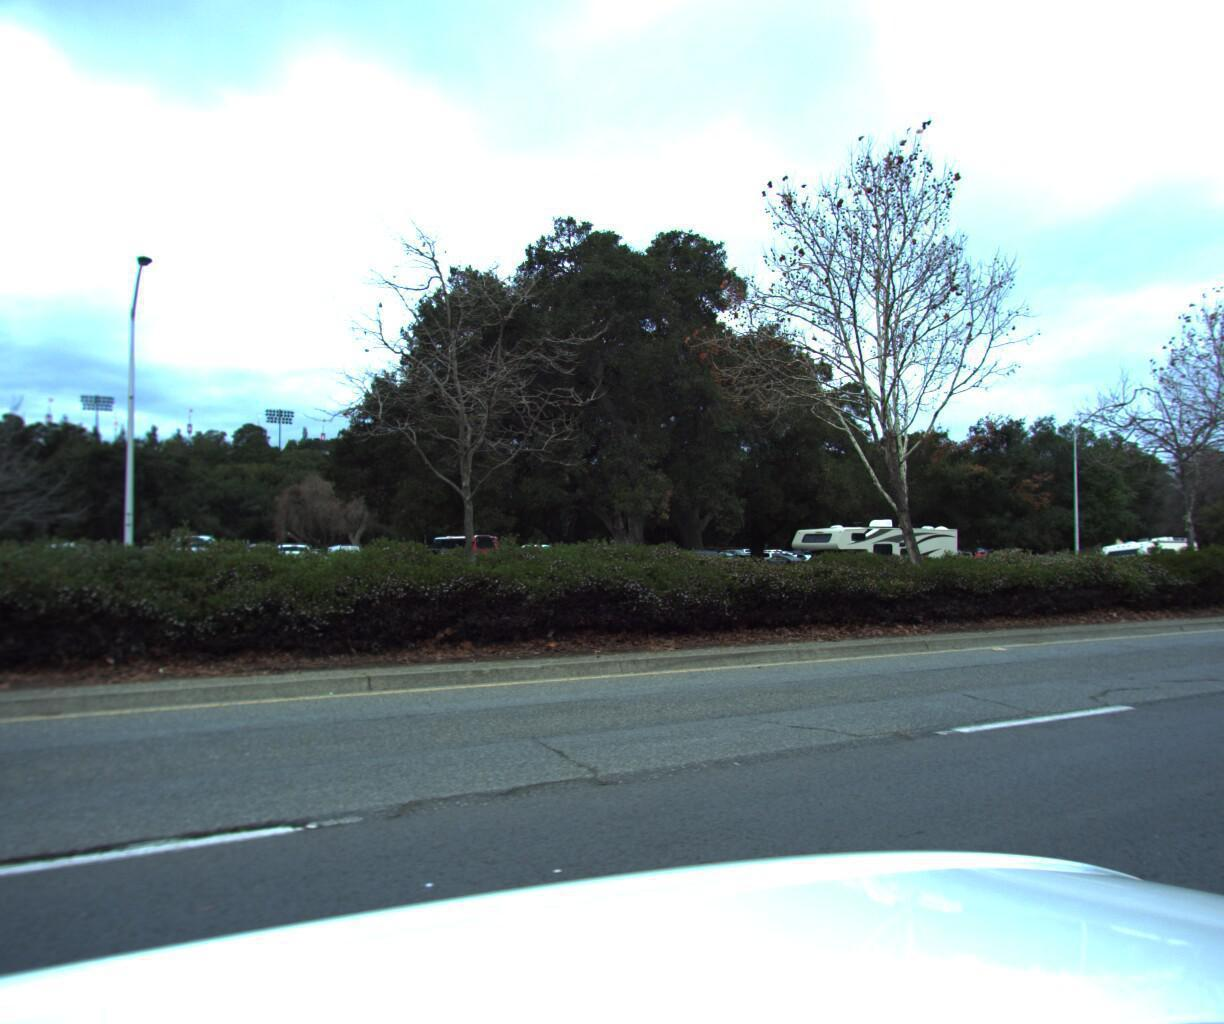car: (594, 546, 729, 588)
other_vehicle: (782, 511, 965, 601), (1073, 531, 1198, 586)
